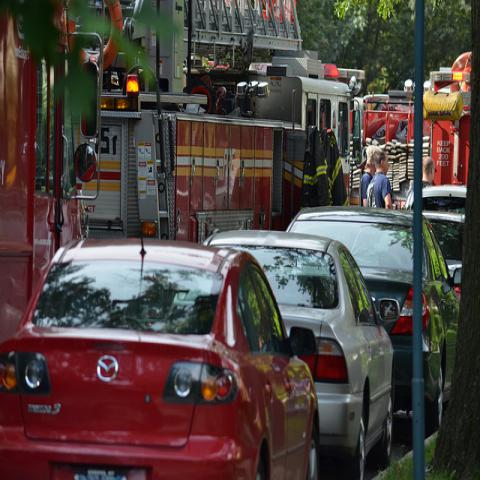car: (0, 236, 321, 479), (206, 228, 400, 478), (279, 189, 416, 413), (423, 209, 466, 297), (403, 183, 468, 219)
truck: (82, 55, 358, 244), (0, 1, 125, 342), (422, 51, 472, 188)
